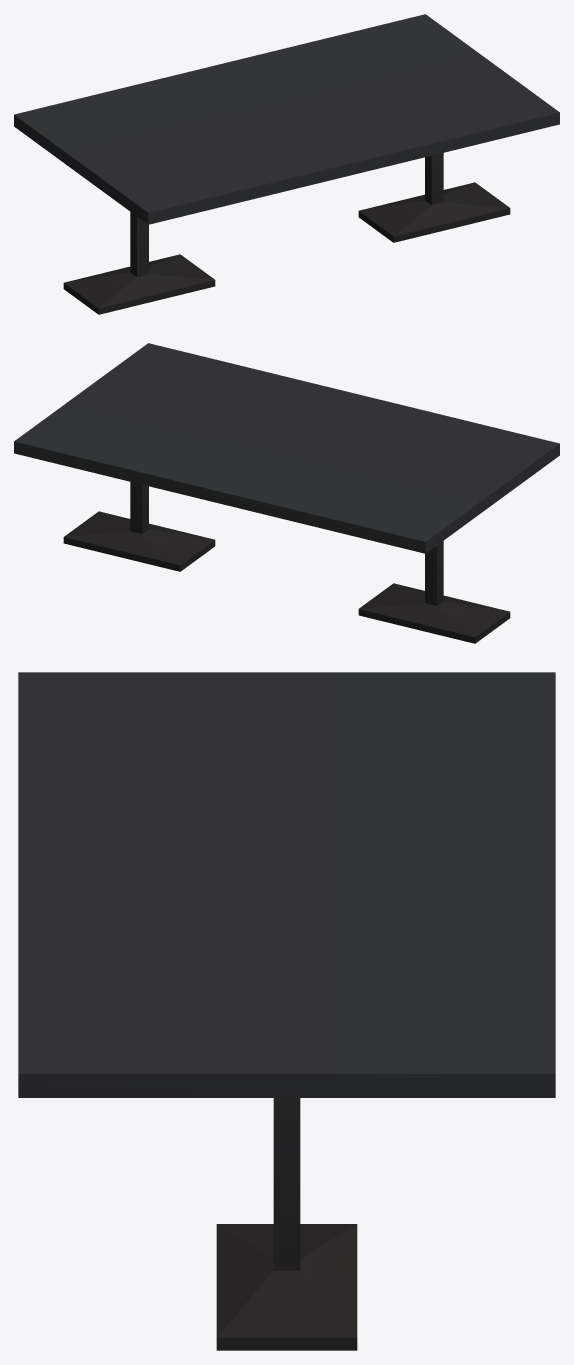
Rendered from Table booth.fbx.
3 views of the same model, one above another, from view 1: azimuth 30°, elevation 25°; view 2: azimuth 150°, elevation 25°; view 3: azimuth 270°, elevation 25° (orthographic). The views are drawn at different scales.
Visible parts, largest first — view 1: Table Booth; view 2: Table Booth; view 3: Table Booth.
Part boxes in pixels (bbox=[...]): Table Booth: bbox=[14, 14, 559, 314]; Table Booth: bbox=[14, 343, 559, 643]; Table Booth: bbox=[18, 672, 555, 1350].
Bounding box in the file's own units: 361 × 116 × 204.
1 material, 1 textured.
